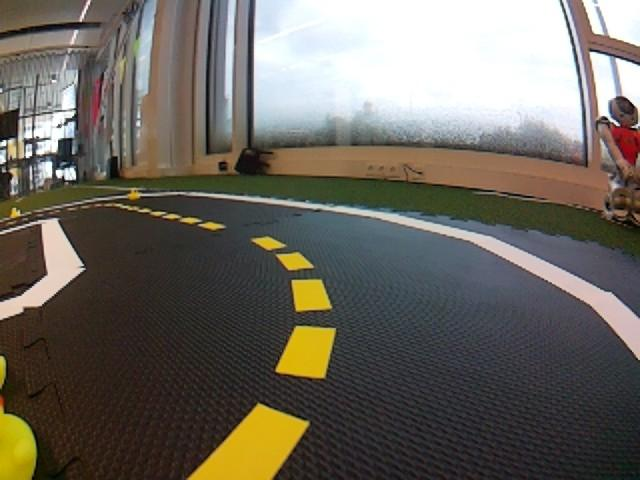Duckies: (0, 390, 35, 480), (10, 208, 22, 219), (130, 189, 142, 199)
